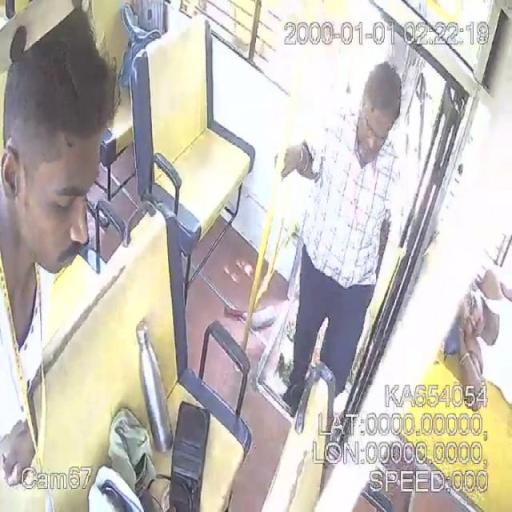persona: (1, 3, 119, 508), (278, 60, 406, 418)
